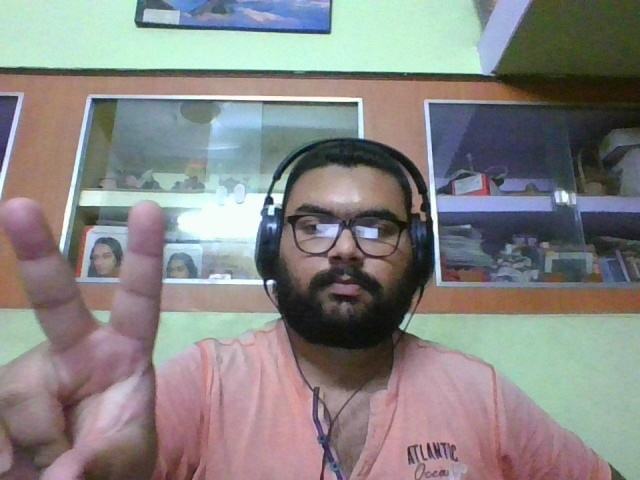iloveyou: (1, 196, 170, 480)
